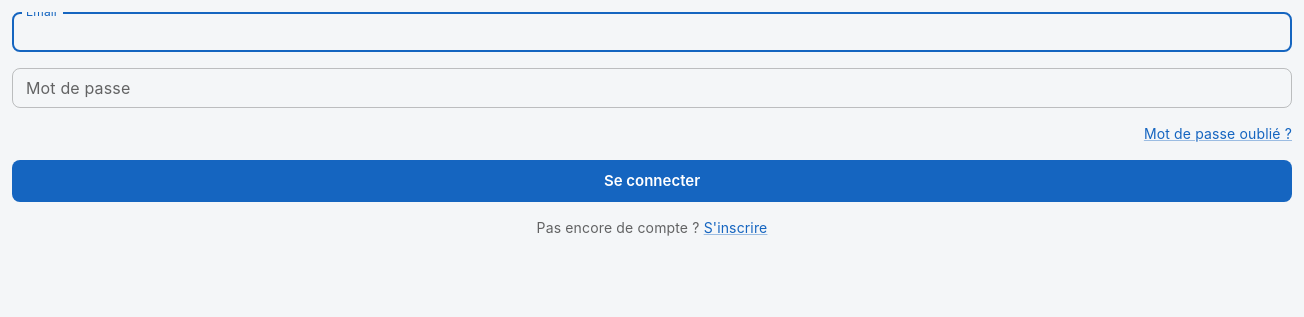
Test: LoginForm › displays the API error message on invalid credentials
Type "alex@iam.ma" into the field labelled "Email".
click(652, 32); type("alex@iam.ma")  # box [12, 12, 1292, 52]
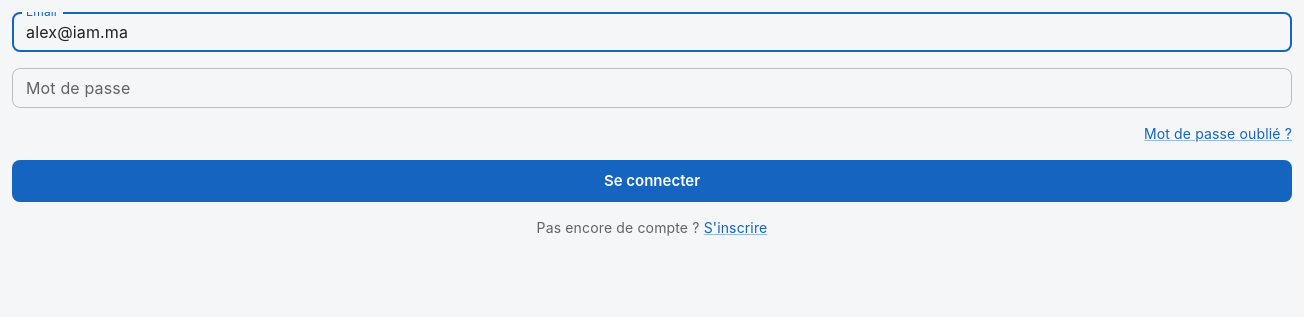
Type "wrongpassword" into the password field labelled "Mot de passe".
click(652, 88); type("wrongpassword")  # box [12, 68, 1292, 108]
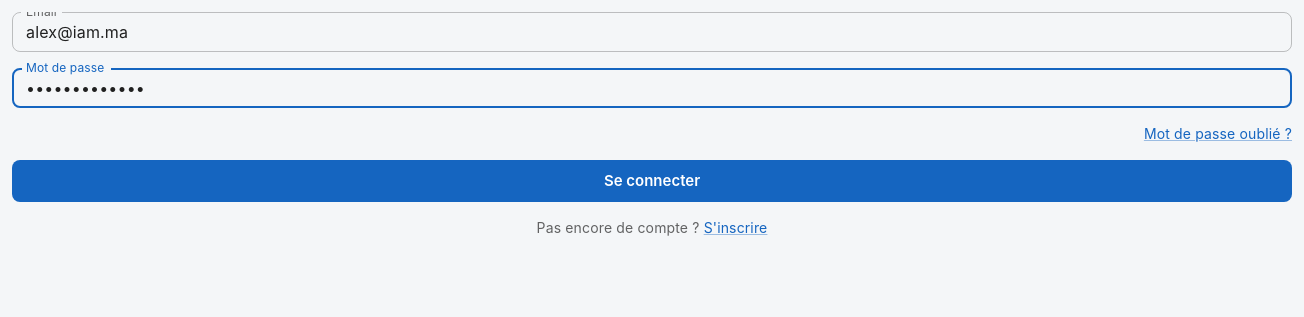
Click the button "Se connecter".
click(652, 181)  # box [12, 160, 1292, 202]
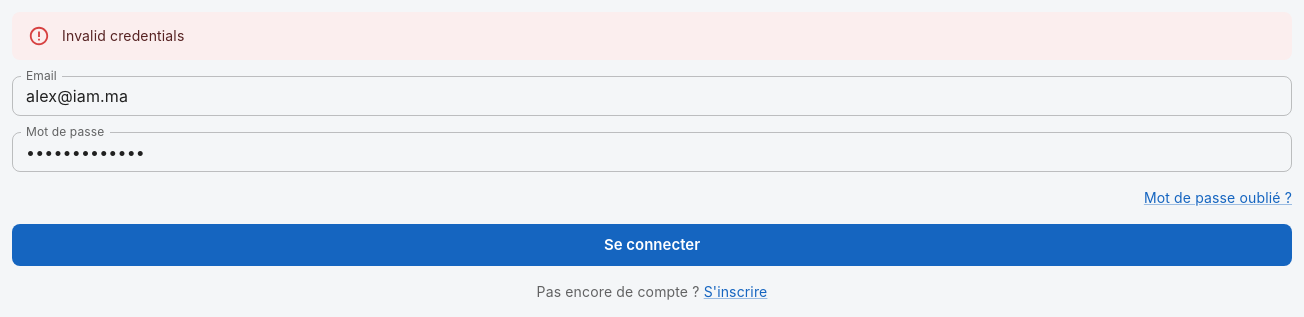
Now the text "Invalid credentials" is shown, box [62, 27, 184, 44]
